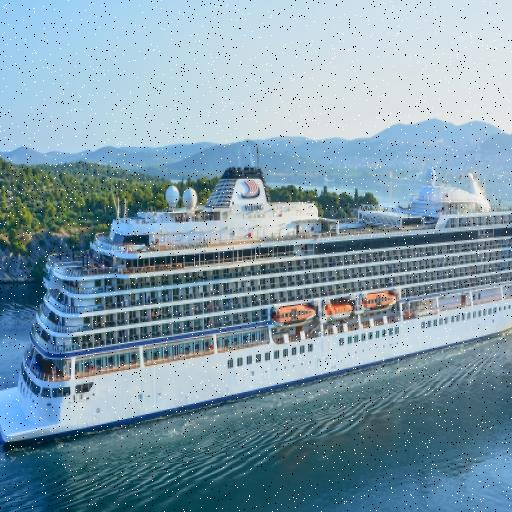cruises: (1, 159, 512, 458)
